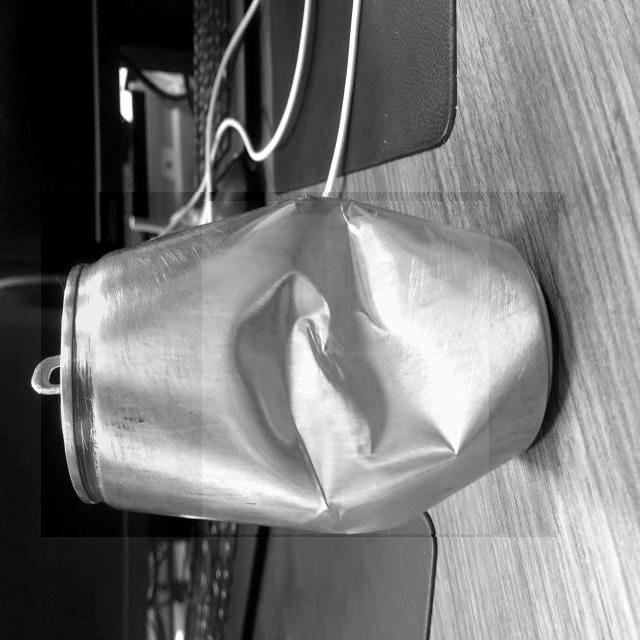deform: (202, 201, 489, 534)
metal: (42, 192, 559, 537)
